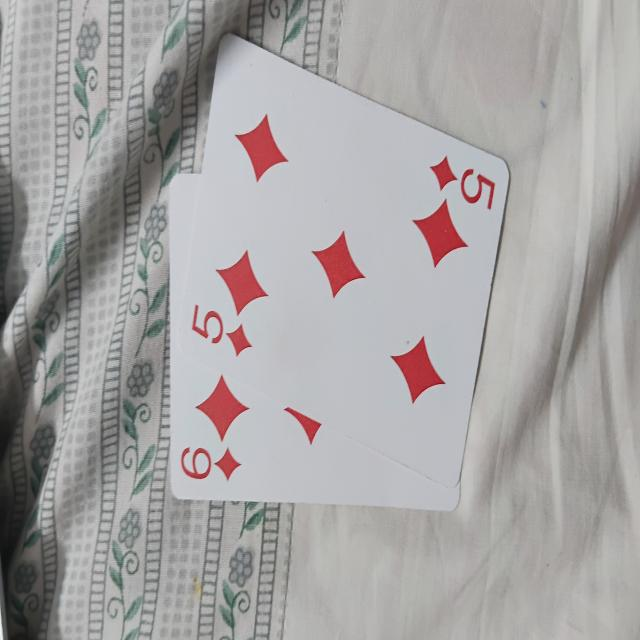5D: (177, 57, 519, 396)
